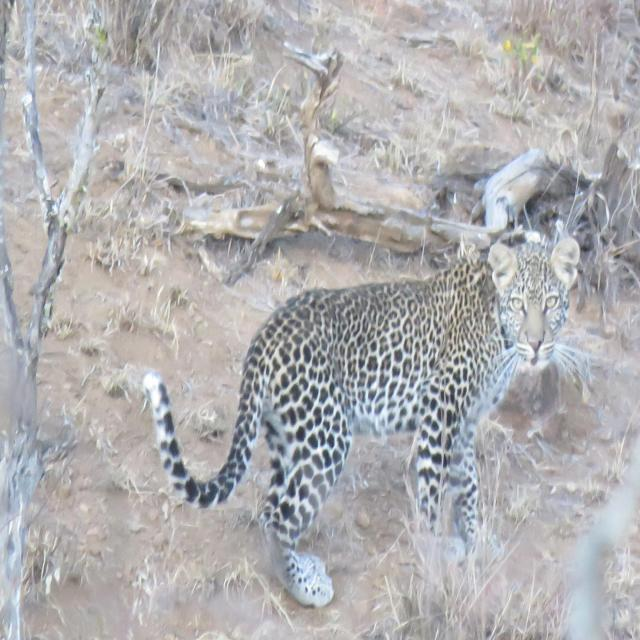Leopard: (139, 236, 570, 621)
